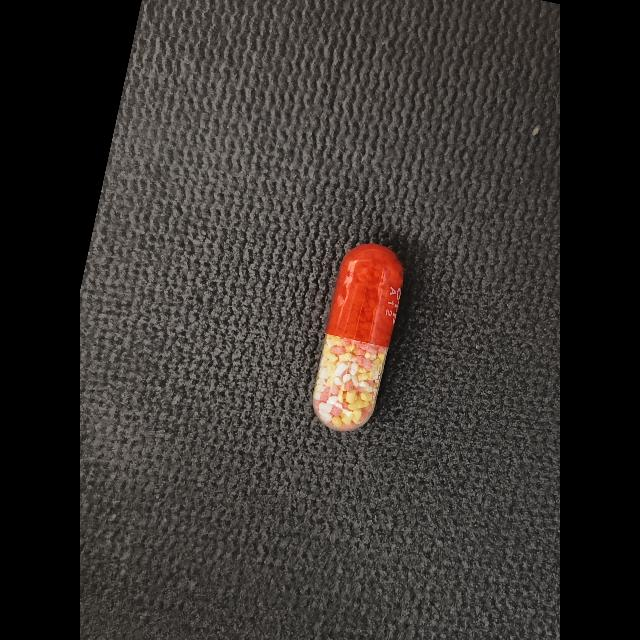Intact Capsule: (313, 244, 403, 431)
